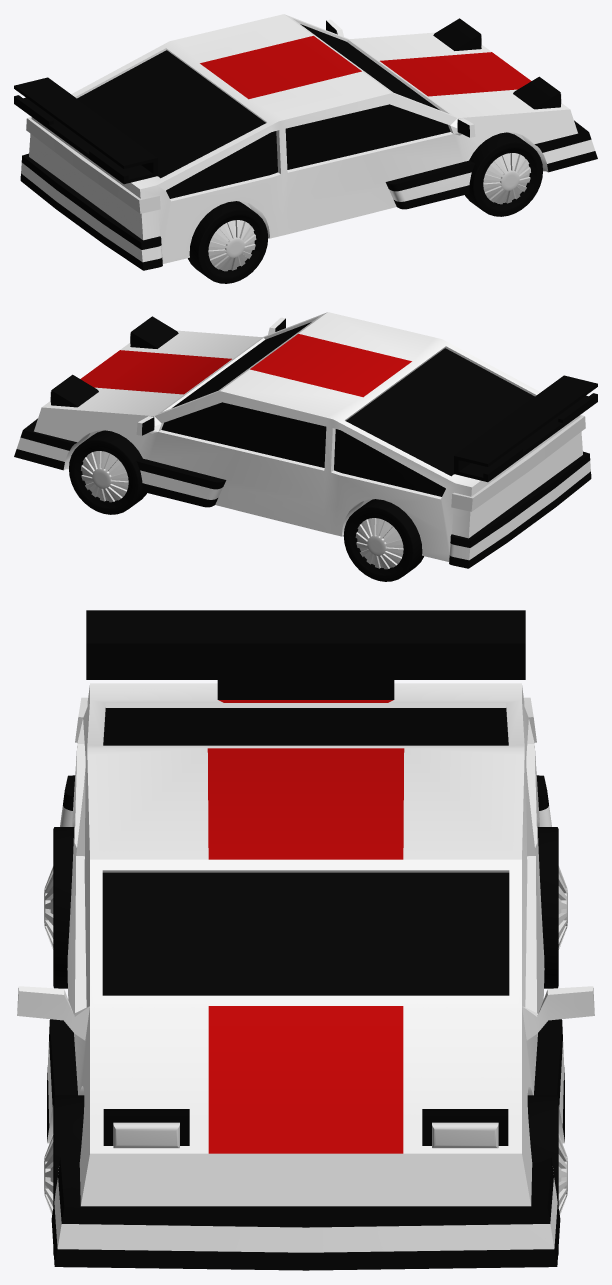
Rendered from japanse Car.fbx.
The picture shows the model from 3 angles, top to bottom: view 1: azimuth 30°, elevation 25°; view 2: azimuth 150°, elevation 25°; view 3: azimuth 270°, elevation 25°; orthographic projection. The views are drawn at different scales.
Parts seen in each view (by area): view 1: Cube, Cylinder.001, Cylinder; view 2: Cube, Cylinder.003, Cylinder.002; view 3: Cube, Cylinder.001, Cylinder.003, Cylinder.002, Cylinder.
Part boxes in pixels (x1,y1,x2,y2): Cube: (14,14,597,270); Cylinder.001: (188,201,268,283); Cylinder: (465,132,542,216); Cube: (14,312,597,568); Cylinder.003: (343,499,423,581); Cylinder.002: (69,430,146,514); Cube: (17,610,594,1270); Cylinder.001: (44,827,74,988); Cylinder.003: (537,827,567,988); Cylinder.002: (527,1095,567,1255); Cylinder: (44,1095,84,1255).
Size of the model in its own units: 883 by 256 by 471.
